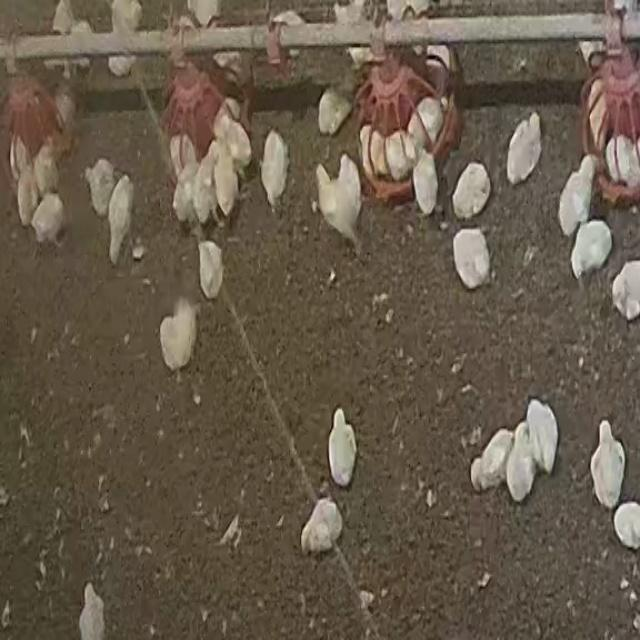chicken: (311, 150, 368, 259), (502, 104, 546, 188), (590, 418, 628, 514), (152, 297, 201, 371), (104, 172, 140, 269), (293, 495, 351, 555), (556, 149, 596, 235), (468, 424, 515, 494), (449, 224, 495, 295), (325, 403, 362, 489), (526, 398, 563, 478), (568, 218, 612, 279), (262, 124, 292, 213), (505, 419, 537, 500), (451, 159, 493, 219), (410, 146, 442, 220), (405, 92, 446, 148), (195, 236, 227, 302), (84, 155, 118, 217), (214, 151, 243, 217), (385, 127, 417, 179), (360, 124, 386, 178)
